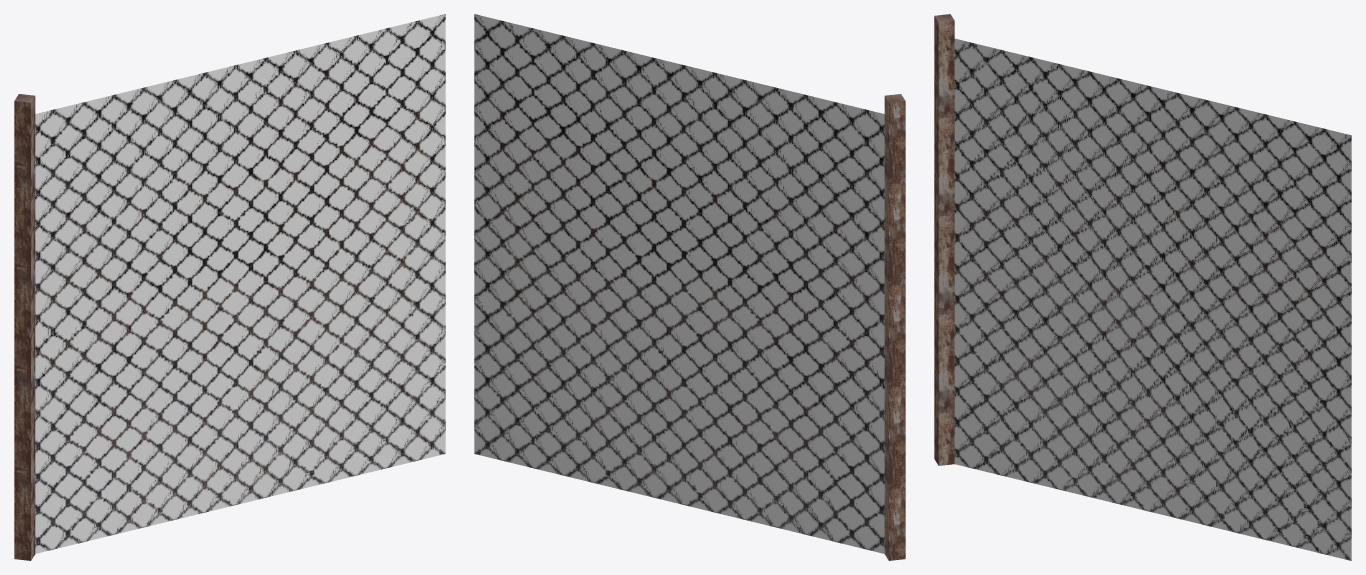
The model's file is Chainlink Fence.glb.
3 views of the same model, side by side, from view 1: azimuth 30°, elevation 25°; view 2: azimuth 150°, elevation 25°; view 3: azimuth 330°, elevation 25° (orthographic). The views are drawn at different scales.
Visible parts, largest first — view 1: Chainlink Fence, Pole; view 2: Chainlink Fence, Pole; view 3: Chainlink Fence, Pole.
Boxes of the visible parts, bbox=[...] form: Chainlink Fence: bbox=[35, 14, 445, 553]; Pole: bbox=[14, 94, 35, 560]; Chainlink Fence: bbox=[474, 14, 884, 553]; Pole: bbox=[884, 94, 905, 560]; Chainlink Fence: bbox=[954, 38, 1351, 560]; Pole: bbox=[934, 14, 954, 465].
Size of the model in its own units: 2.46 by 2.5 by 0.12.
Materials: 2 (2 with a texture image).
